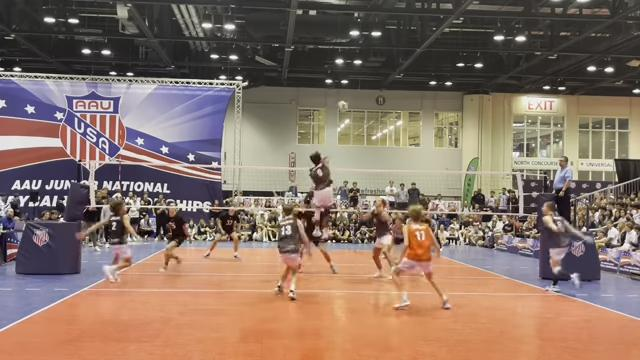Attack: (304, 149, 337, 238)
Player: (392, 205, 450, 309), (77, 200, 136, 281), (543, 202, 589, 287), (275, 204, 310, 299), (300, 193, 336, 273), (363, 199, 392, 277), (160, 203, 188, 271), (204, 209, 240, 260), (390, 216, 404, 262)
ball: (338, 100, 350, 114)
